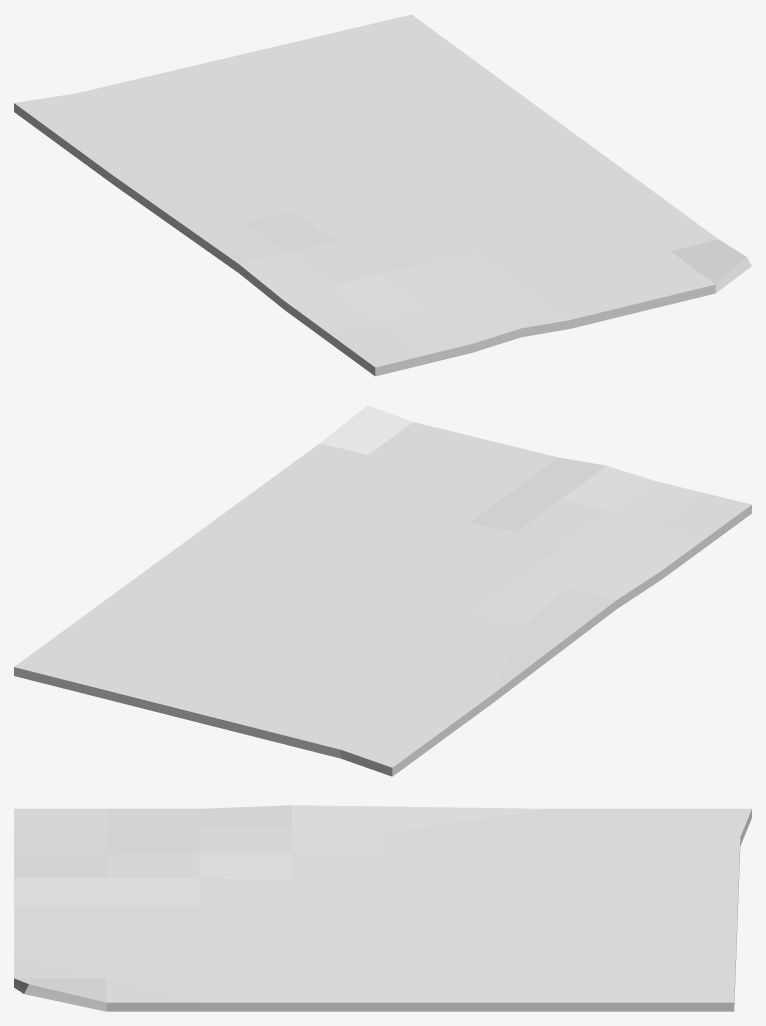
Rendered from paper01.obj.
3 views of the same model, one above another, from view 1: azimuth 30°, elevation 25°; view 2: azimuth 150°, elevation 25°; view 3: azimuth 270°, elevation 25° (orthographic). The views are drawn at different scales.
Parts seen in each view (by area): view 1: Cube; view 2: Cube; view 3: Cube.
Part boxes in pixels (x1,y1,x2,y2): Cube: (14, 14, 751, 376); Cube: (14, 405, 751, 776); Cube: (14, 805, 751, 1011).
Size of the model in its own units: 0.1537 by 0.00827 by 0.2474.
